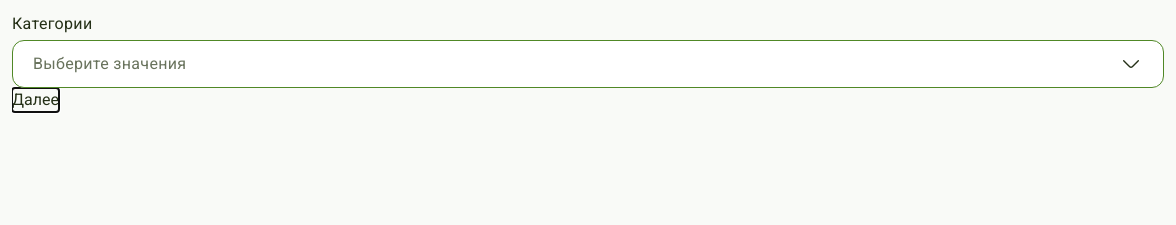
Test case: MultiSelect › закрывается по клику снаружи или при уходе фокуса из списка
Earlier steps of the test are not shown.
Click the button named "Категории" at (110,64), box x1=12 y1=40 x2=1164 y2=88
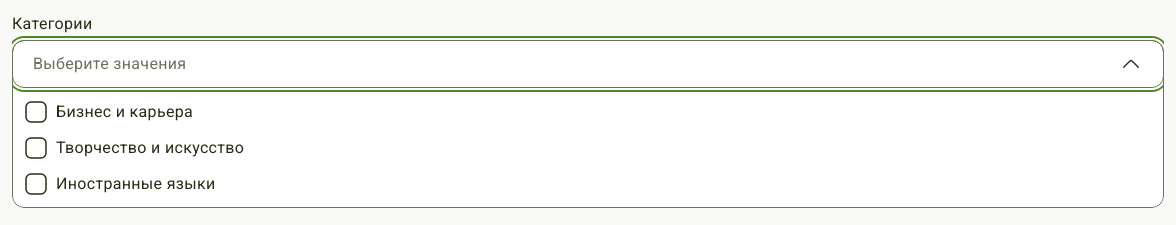
Press Tab
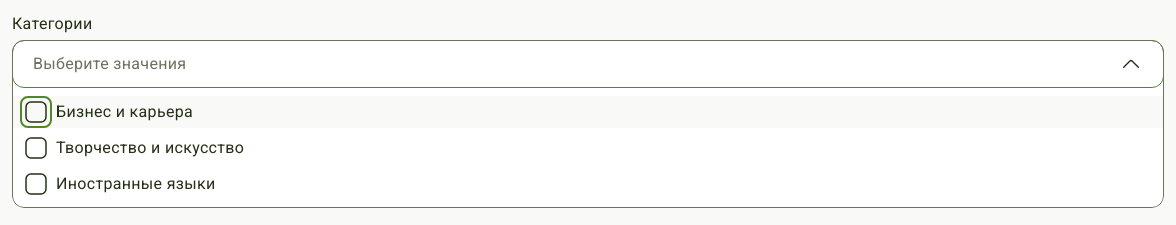
Press Tab
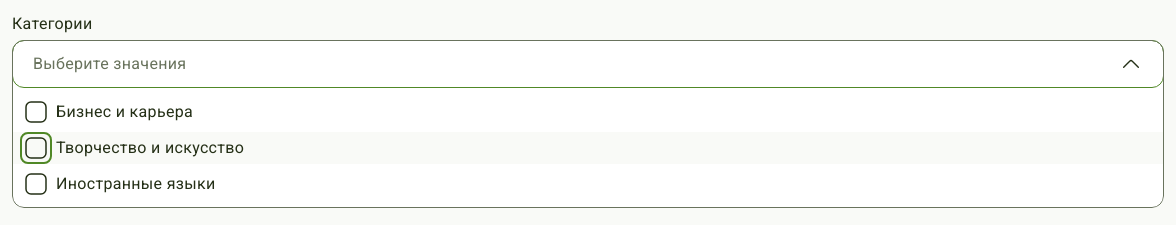
Press Tab
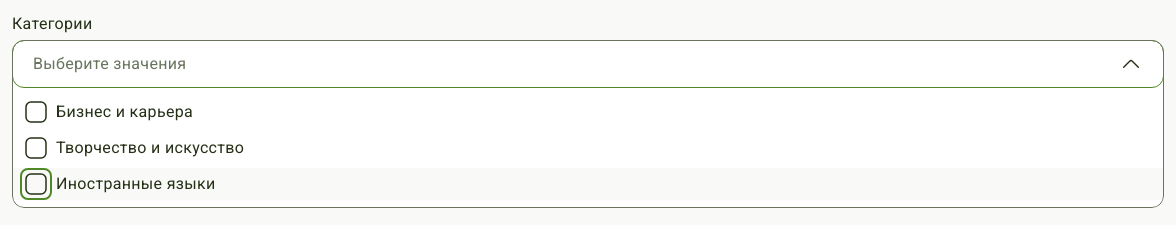
Press Tab
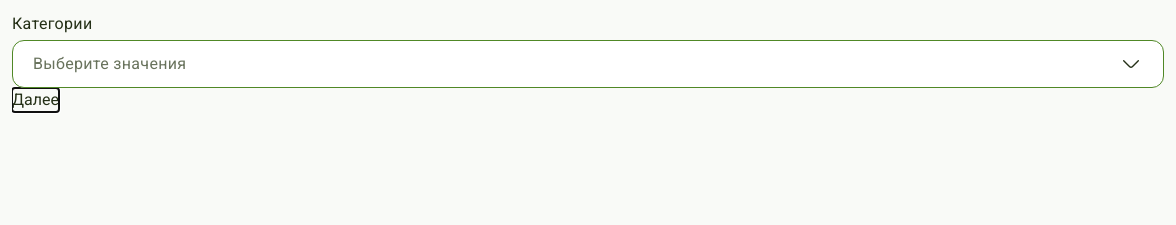
expect the button named "Категории" is collapsed: met, box x1=12 y1=40 x2=1164 y2=88
